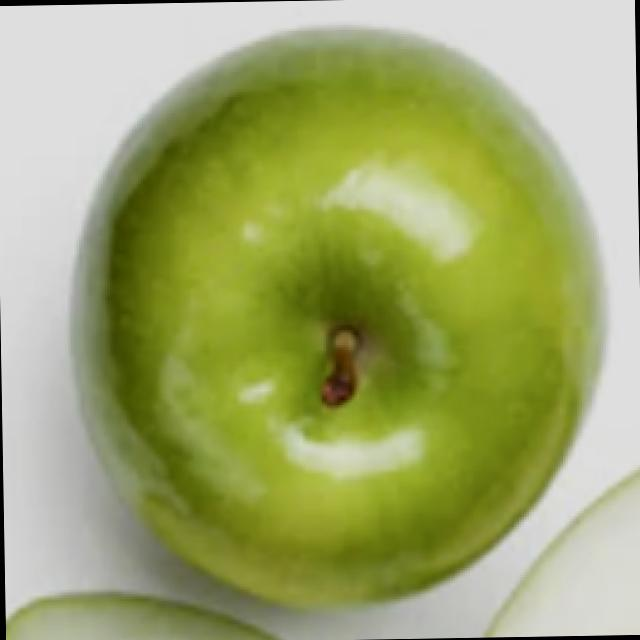Fresh_Apple: (47, 49, 620, 640)
